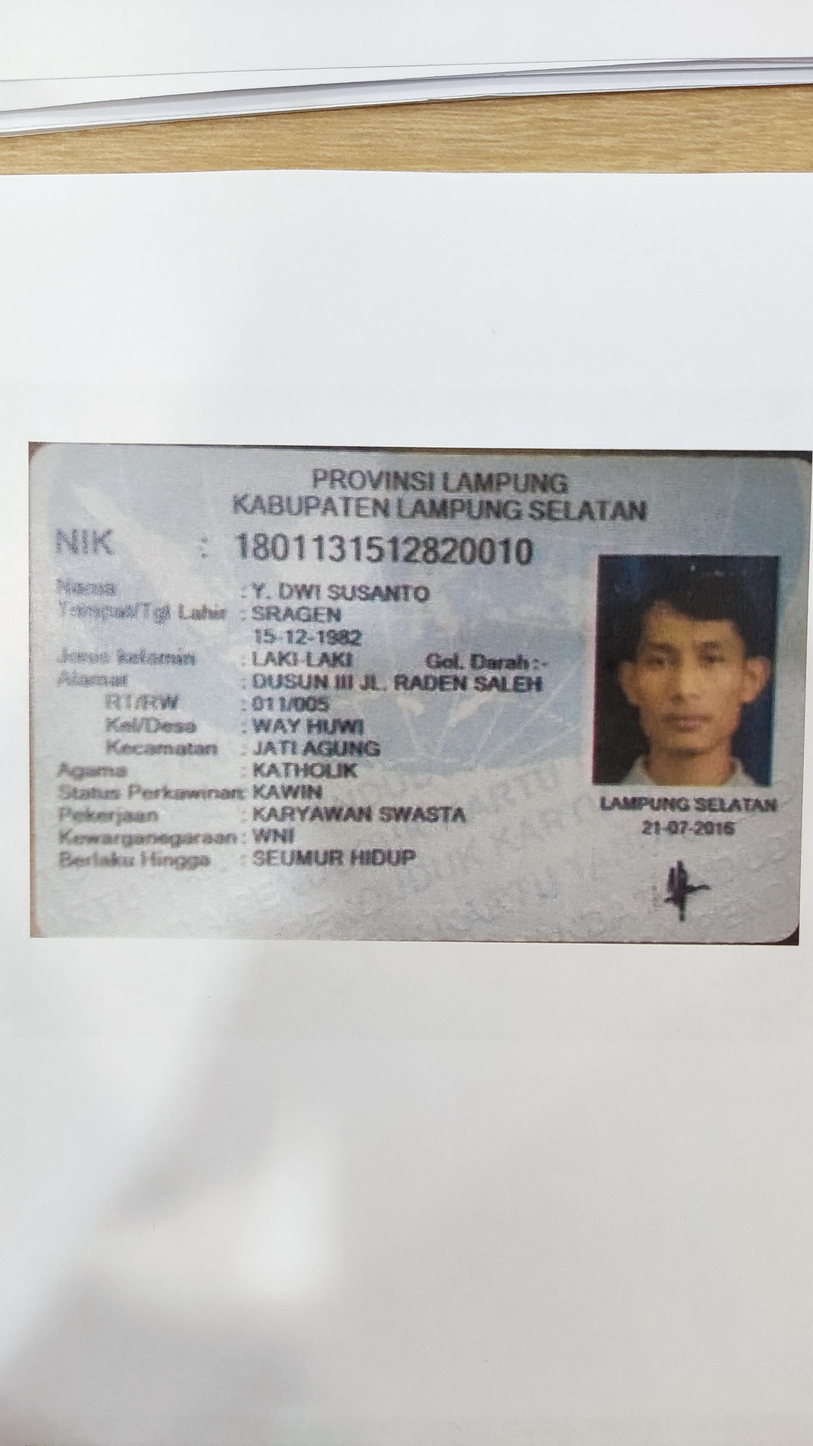ID-card: (28, 443, 804, 934)
